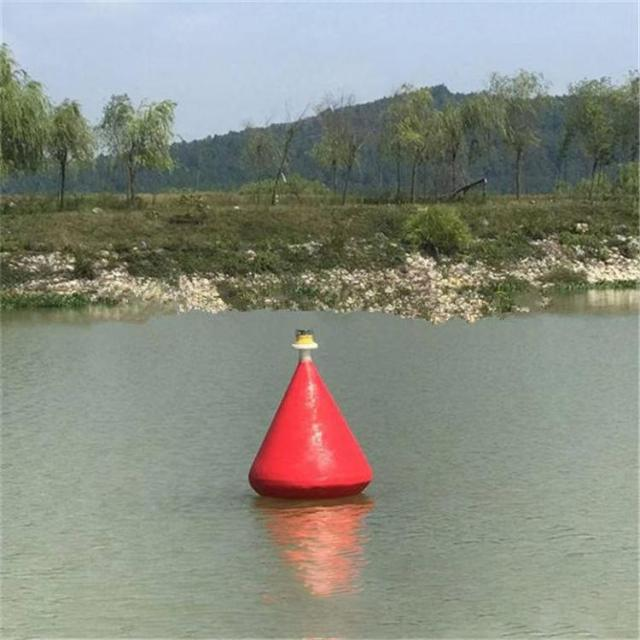buoy: (250, 319, 376, 500)
